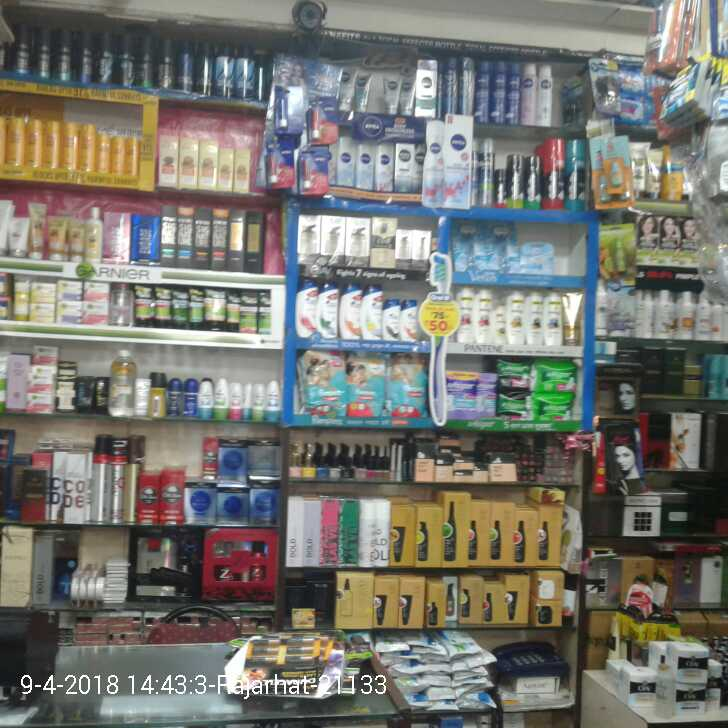gillete: (659, 57, 706, 116), (590, 58, 624, 114), (565, 137, 587, 207), (546, 137, 564, 209), (709, 56, 728, 115), (525, 155, 542, 208), (508, 155, 524, 209), (495, 168, 506, 208)
venus: (456, 223, 490, 271), (493, 226, 517, 272), (521, 242, 554, 271)
